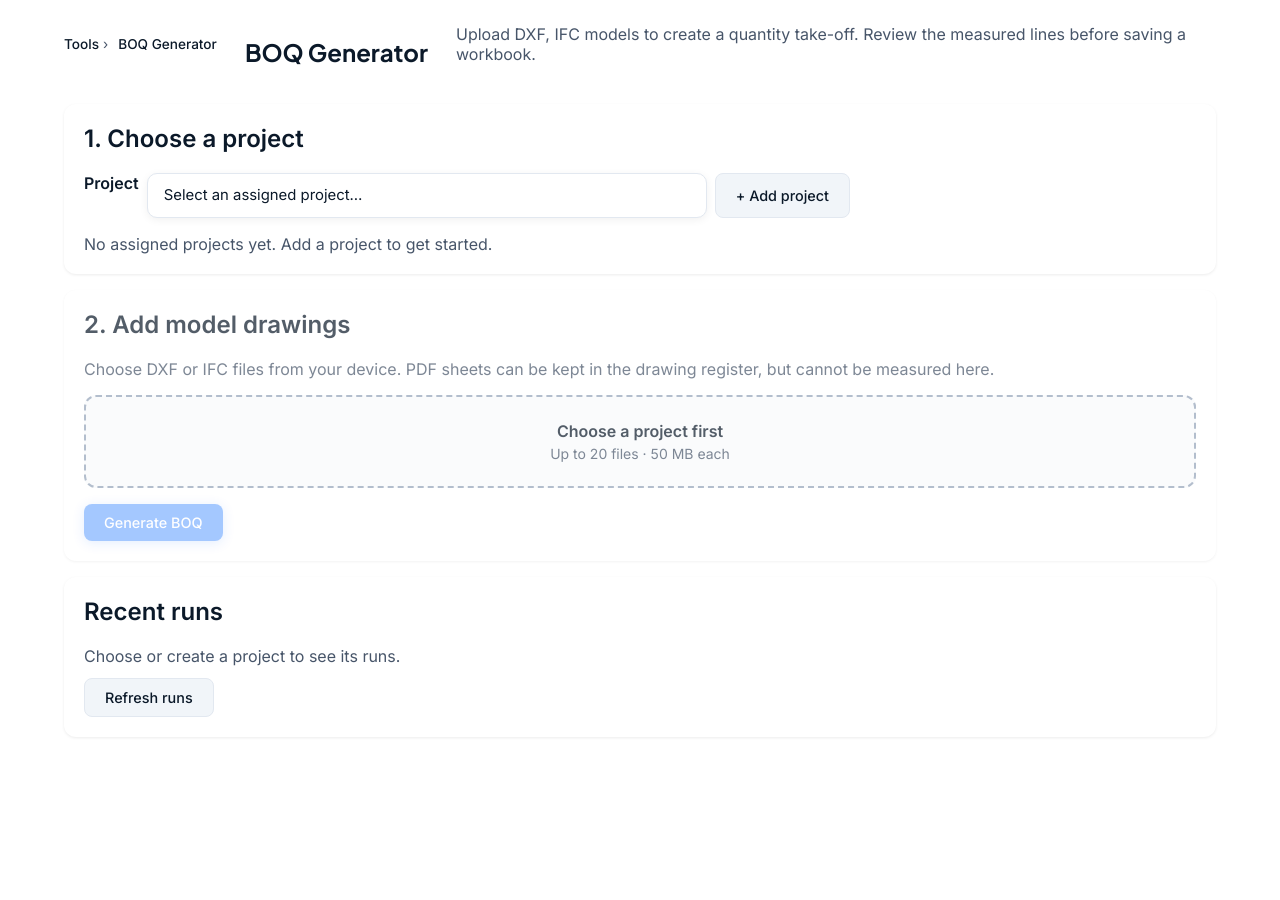
Scenario: BOQ Generator user workflow › re-resolves upload eligibility when allocation is checked in an open page
Expected: the text "No assigned projects yet. Add a project to get started." is shown, [84,234,492,254]
Click the button "+ Add project" at point(782, 195), box [715,173,850,218]
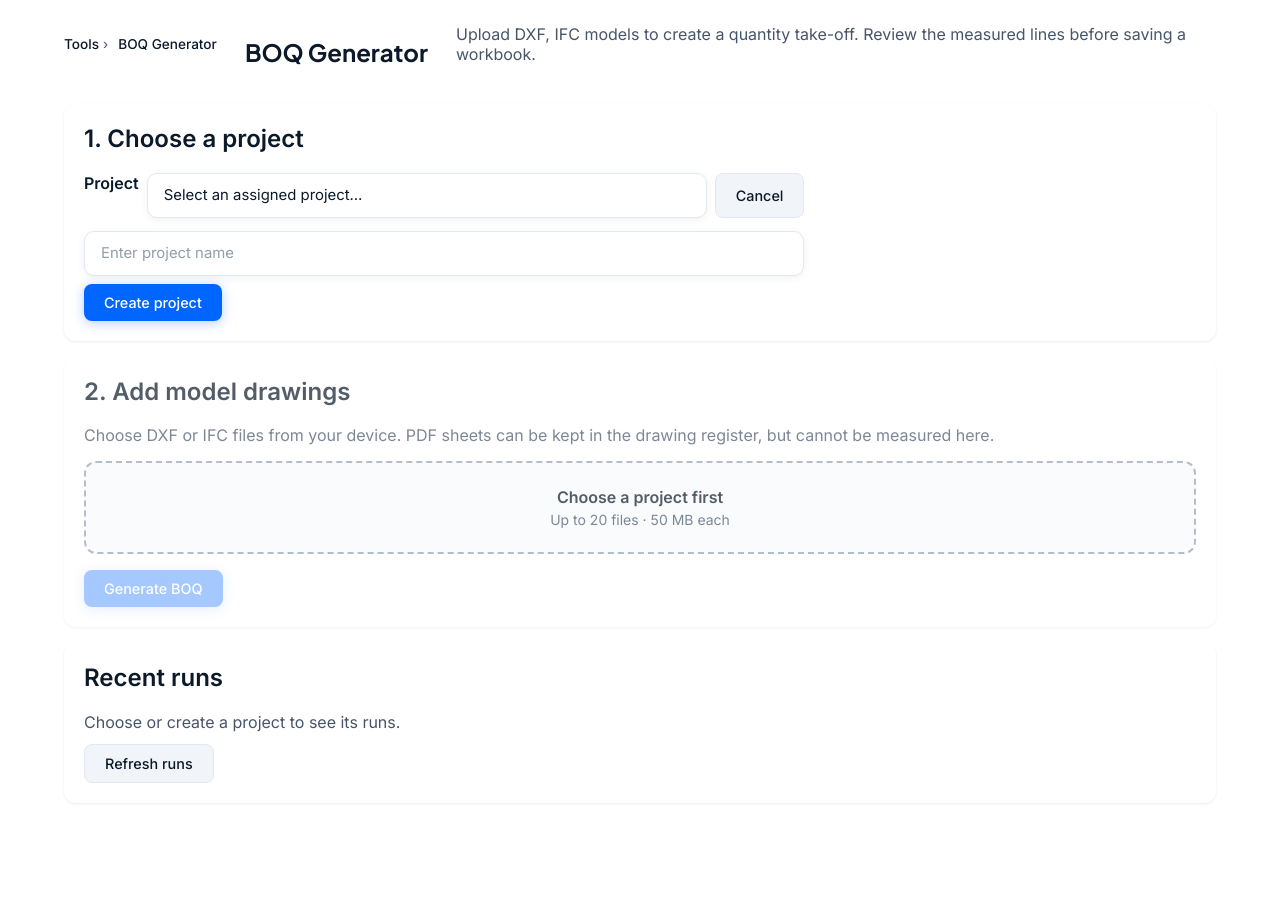
Type "North Tower" into the field named "New project name" at point(444, 253), box [84,231,804,276]
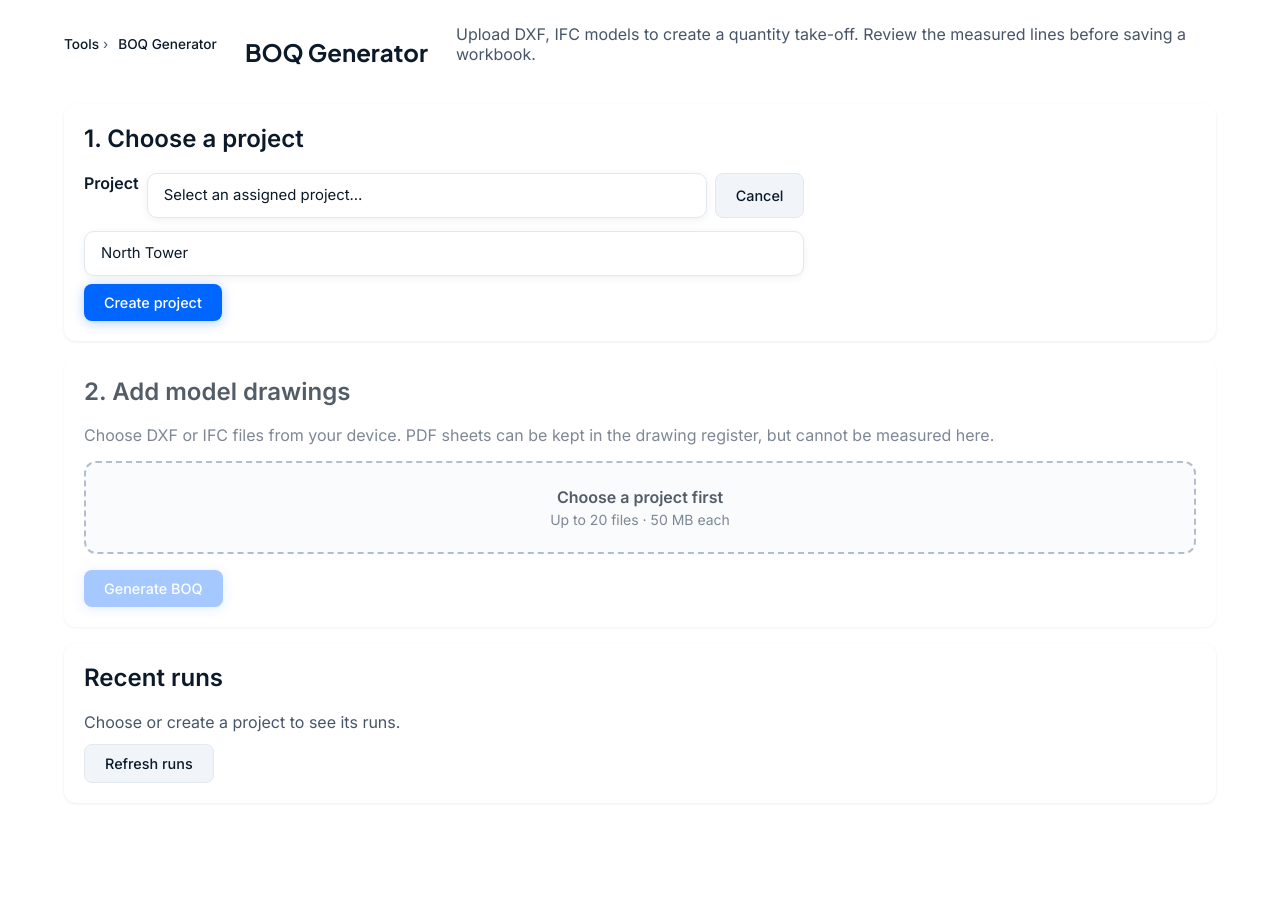
Click the button "Create project" at point(153, 302), box [84,284,222,321]
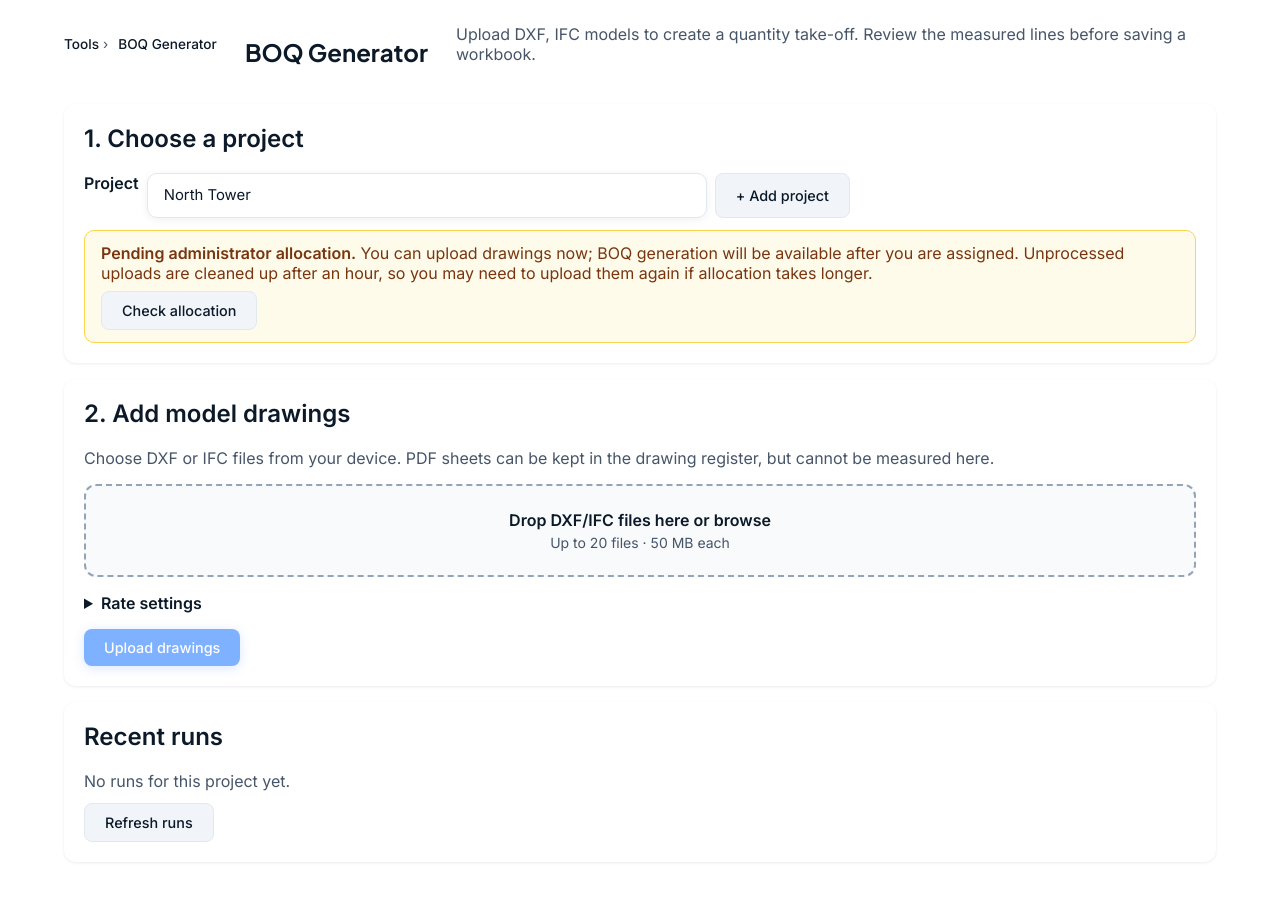
Now the button "Upload drawings" is shown, box [84,629,240,666]
Click the button "Check allocation" at point(179, 310), box [101,291,258,330]
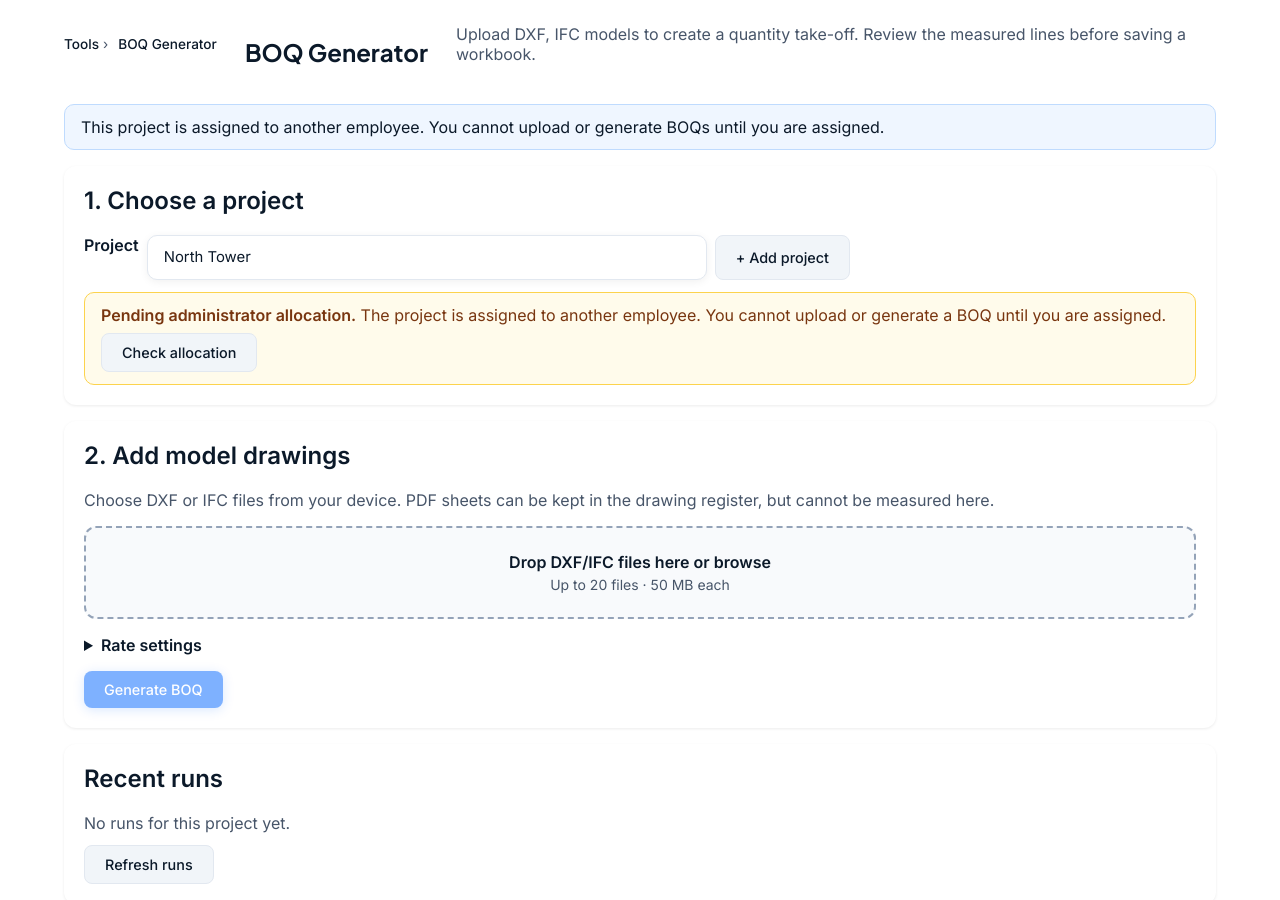
Expected: the button "Generate BOQ" is disabled, [84,671,223,708]
Now the text "assigned to another employee. You cannot upload or generate BOQs until you are assigned" is shown, box [81,117,884,137]
Now the button "upload drawings" is gone
